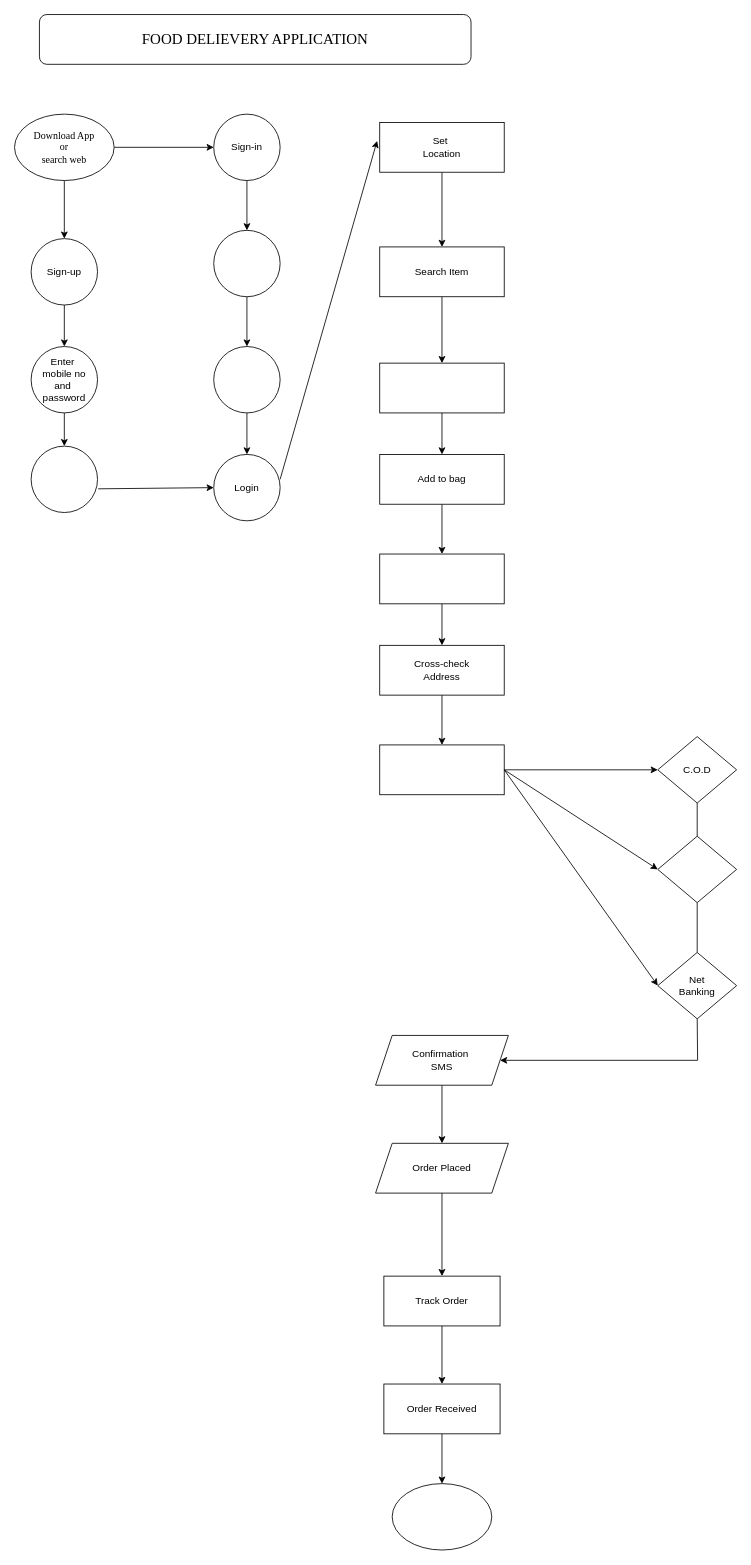
Some shapes in this 751 by 1565 pixel diagram are drawn without their labels. Here are the shapes that lost their labels. From the top down, the centre of each, then its label:
the point at 246,263: Forgot password
the point at 246,379: Send mail to user
the point at 441,387: Choose Item
the point at 64,479: OTP verification
the point at 441,578: Buy
the point at 441,769: Pay
the point at 697,869: UPI
the point at 441,1516: Done
